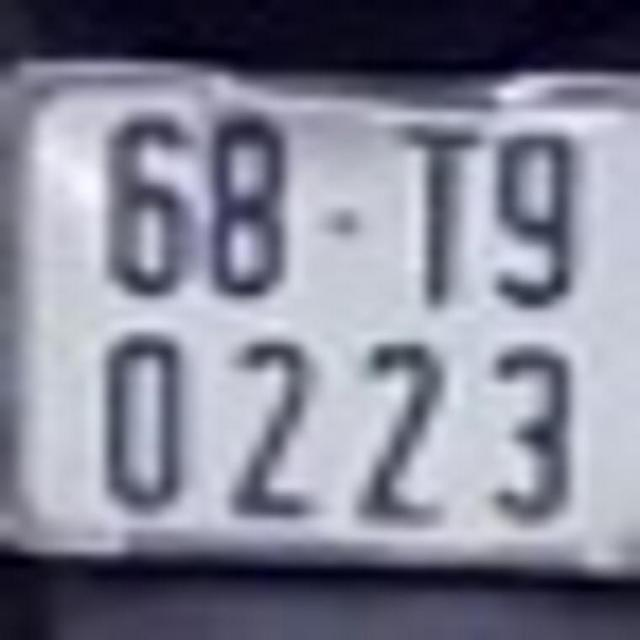0: (105, 334, 178, 508)
2: (361, 339, 446, 528), (232, 336, 309, 521)
3: (492, 340, 568, 524)
6: (109, 112, 192, 295)
8: (210, 114, 284, 298)
9: (492, 130, 566, 305)
T: (390, 123, 478, 303)
